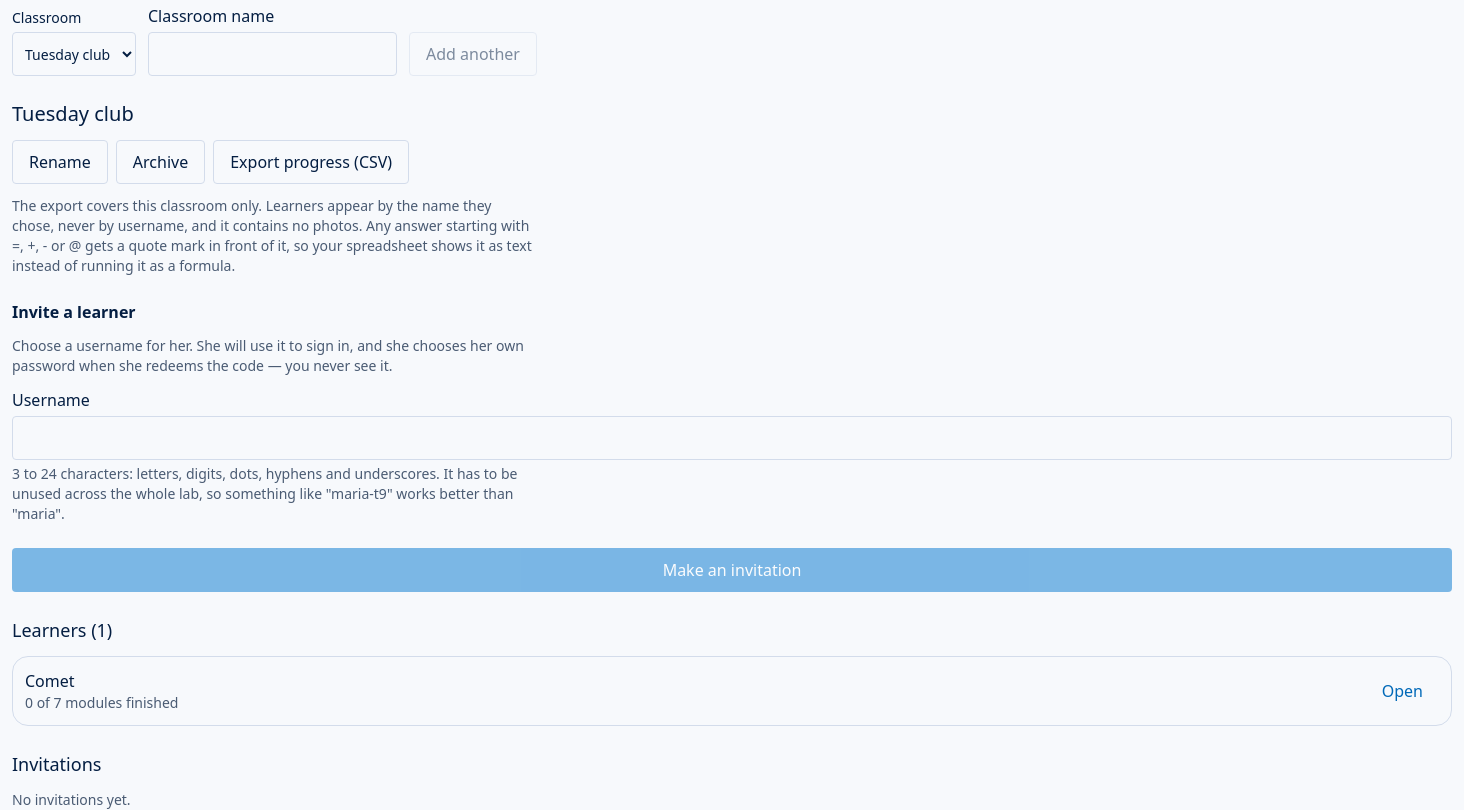
it: the roster shows aliases, never usernames (FR-025, FR-040) › states that her photos are not reachable (FR-041)
(page scrolled)
Step 1. Click the button "Open" → (1402, 691), box [1366, 669, 1439, 713]
(page scrolled)
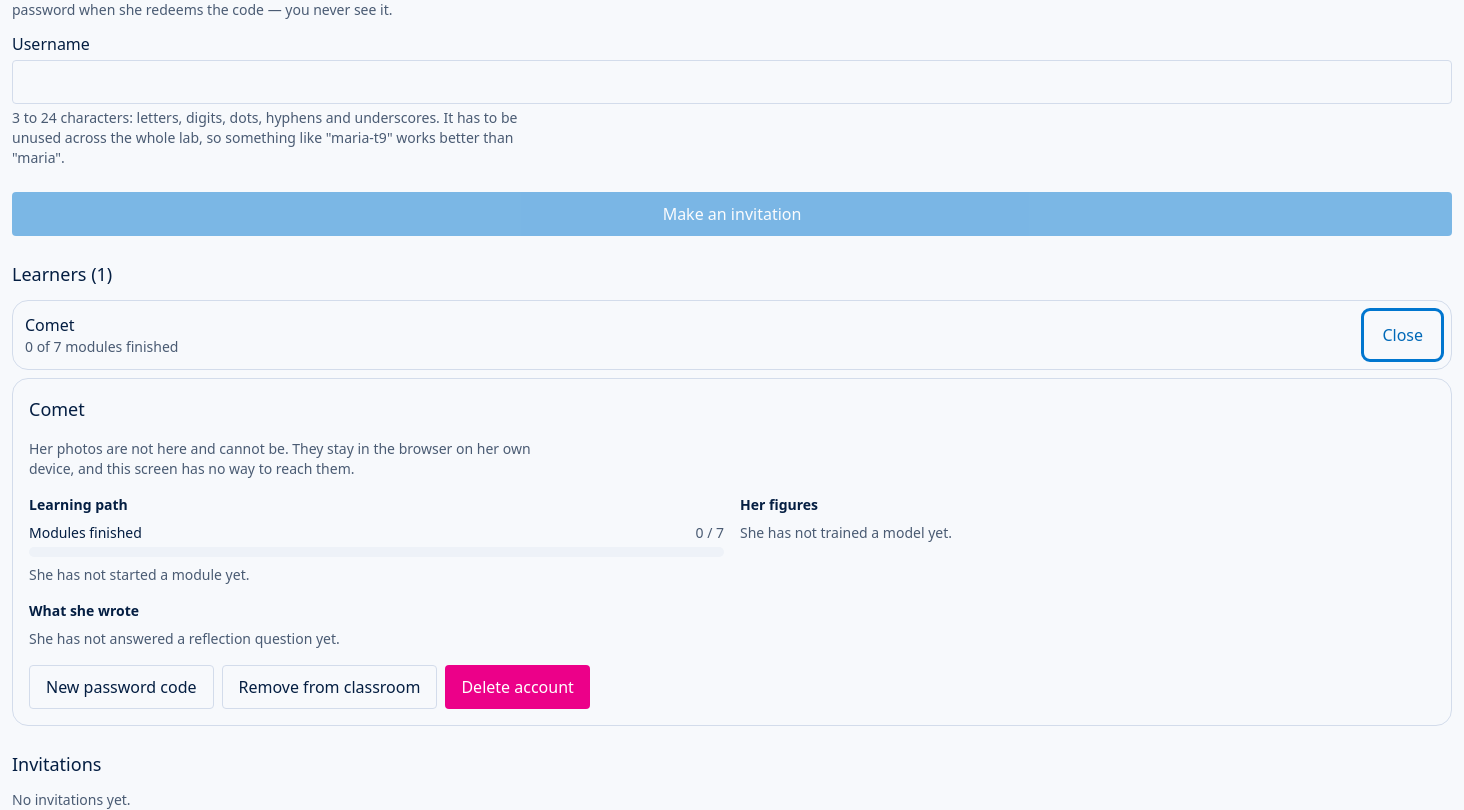
Expected: the text with test id "no-images-note" shows "stay in the browser on her own device", [29, 439, 531, 478]
